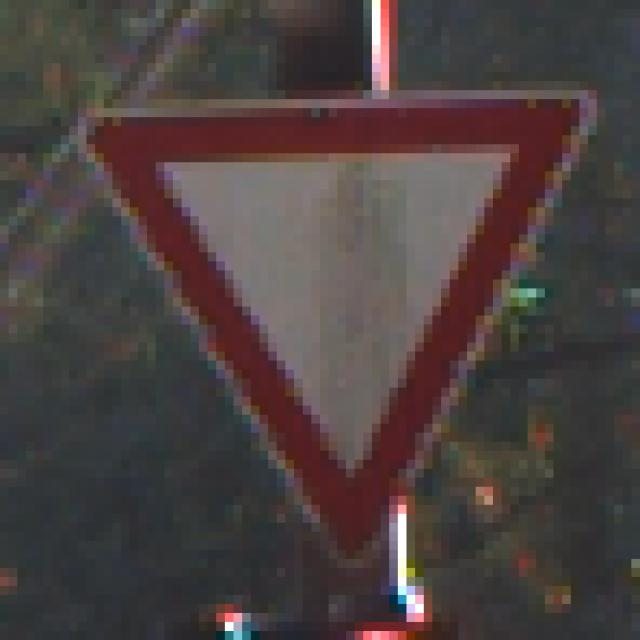Give Way: (62, 55, 581, 578)
